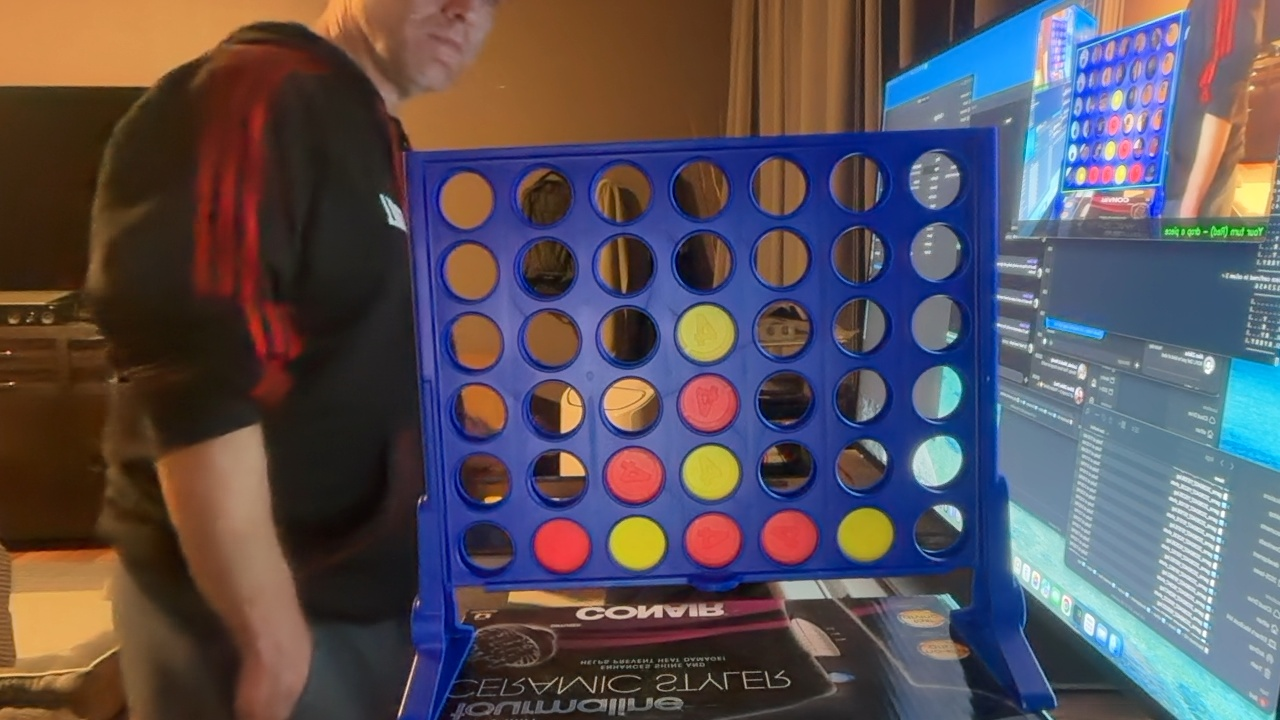red piece: (678, 374, 739, 433), (604, 447, 664, 504), (761, 510, 818, 565), (533, 518, 590, 573), (685, 513, 742, 568)
yellow piece: (676, 304, 736, 362), (681, 444, 740, 501), (608, 516, 666, 571), (837, 508, 894, 563)
